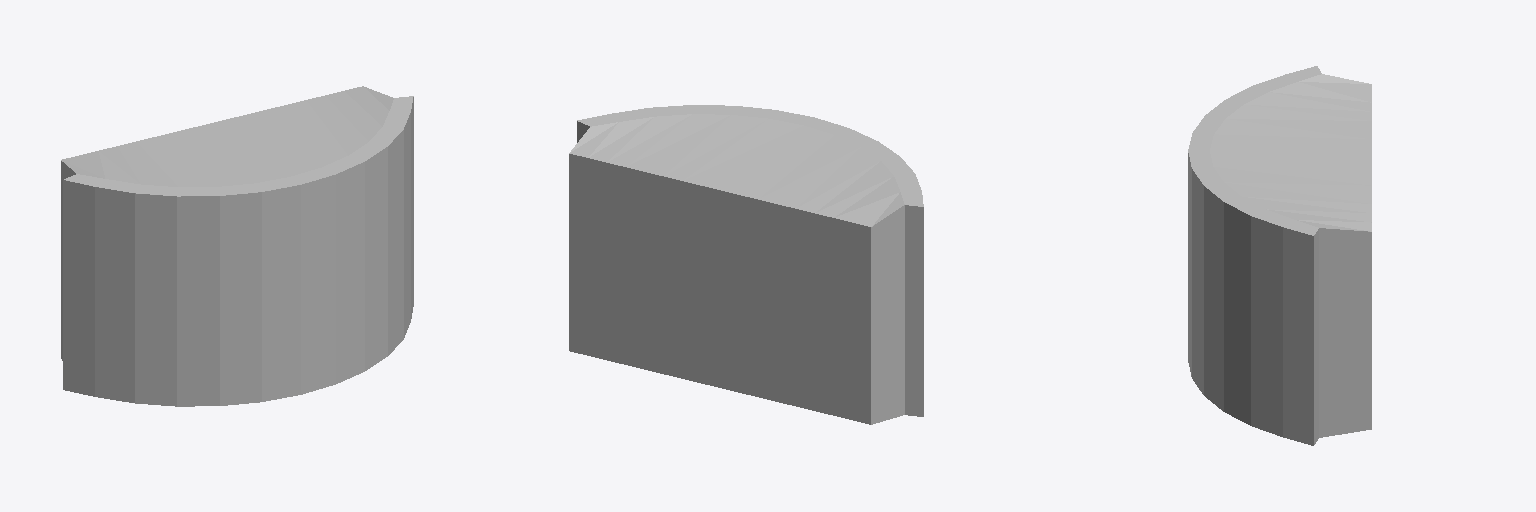
File: shield_collider.obj
3 renders of one model, left to right at view 1: azimuth 30°, elevation 25°; view 2: azimuth 150°, elevation 25°; view 3: azimuth 270°, elevation 25°, orthographic.
Parts seen in each view (by area): view 1: Cylinder_Cylinder.001; view 2: Cylinder_Cylinder.001; view 3: Cylinder_Cylinder.001.
Part boxes in pixels (bbox=[...]): Cylinder_Cylinder.001: bbox=[61, 86, 413, 406]; Cylinder_Cylinder.001: bbox=[569, 105, 923, 424]; Cylinder_Cylinder.001: bbox=[1188, 66, 1371, 445].
Bounding box in the file's own units: 1.85 × 1.06 × 0.8428.